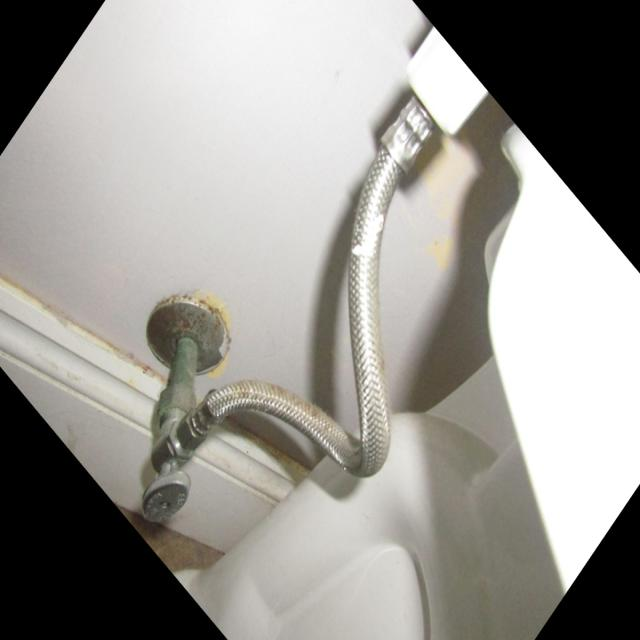bad_line: (183, 106, 431, 476)
good_coupler: (407, 29, 482, 133)
good_valve: (137, 361, 212, 524)
